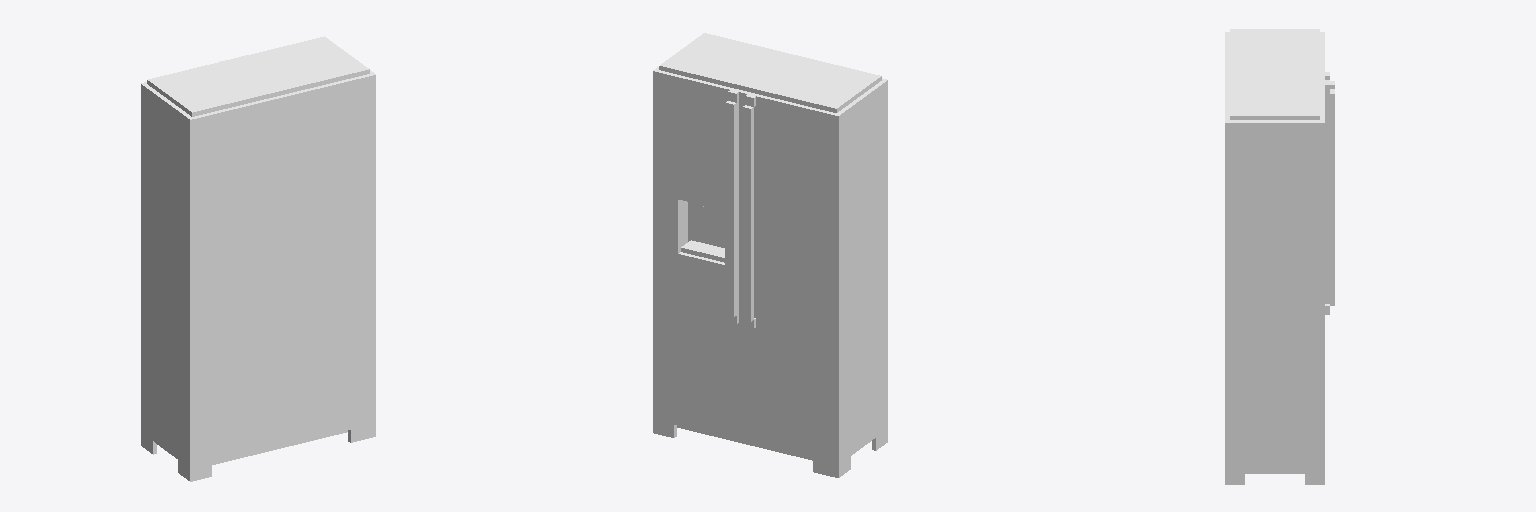
The model's file is Base_classical_fridge-1.obj.
3 renders of one model, left to right at view 1: azimuth 30°, elevation 25°; view 2: azimuth 150°, elevation 25°; view 3: azimuth 270°, elevation 25°, orthographic.
Parts seen in each view (by area): view 1: Base_classical_fridge-1; view 2: Base_classical_fridge-1; view 3: Base_classical_fridge-1.
Part boxes in pixels (left/top/right/bottom): Base_classical_fridge-1: left=141, top=36, right=375, bottom=481; Base_classical_fridge-1: left=653, top=33, right=887, bottom=477; Base_classical_fridge-1: left=1225, top=29, right=1334, bottom=484.
Bounding box in the file's own units: 43 × 81 × 22.